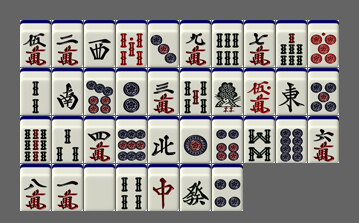0m: (244, 68, 275, 115)
0p: (308, 20, 339, 67)
0s: (116, 20, 147, 67)
1m: (52, 164, 83, 211)
1p: (180, 116, 211, 163)
1s: (212, 68, 243, 115)
1z: (276, 68, 307, 115)
2m: (52, 20, 83, 67)
2p: (116, 68, 147, 115)
2s: (20, 68, 51, 115)
2z: (52, 68, 83, 115)
3m: (148, 68, 179, 115)
3p: (148, 20, 179, 67)
3s: (52, 116, 83, 163)
3z: (84, 20, 115, 67)
4m: (84, 116, 115, 163)
4p: (212, 164, 243, 211)
4s: (116, 164, 147, 211)
4z: (148, 116, 179, 163)
5m: (20, 20, 51, 67)
5p: (308, 68, 339, 115)
5s: (180, 68, 211, 115)
5z: (84, 164, 115, 211)
6m: (308, 116, 339, 163)
6p: (212, 116, 243, 163)
6s: (212, 20, 243, 67)
6z: (180, 164, 211, 211)
7m: (244, 20, 275, 67)
7p: (84, 68, 115, 115)
7s: (276, 20, 307, 67)
7z: (148, 164, 179, 211)
8m: (20, 164, 51, 211)
8p: (276, 116, 307, 163)
8s: (244, 116, 275, 163)
9m: (180, 20, 211, 67)
9p: (116, 116, 147, 163)
9s: (20, 116, 51, 163)
